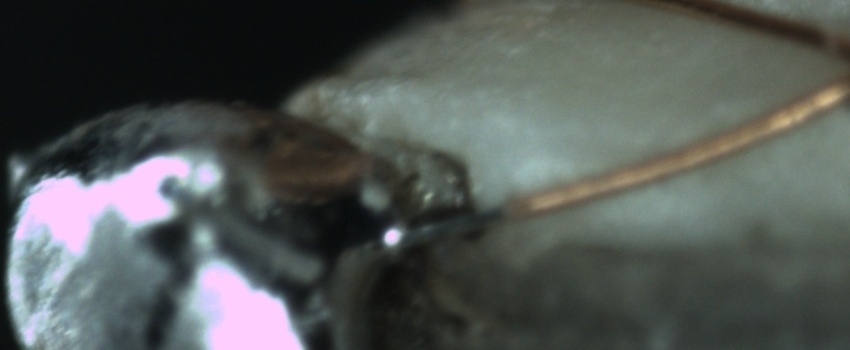TS: (384, 205, 510, 255)
